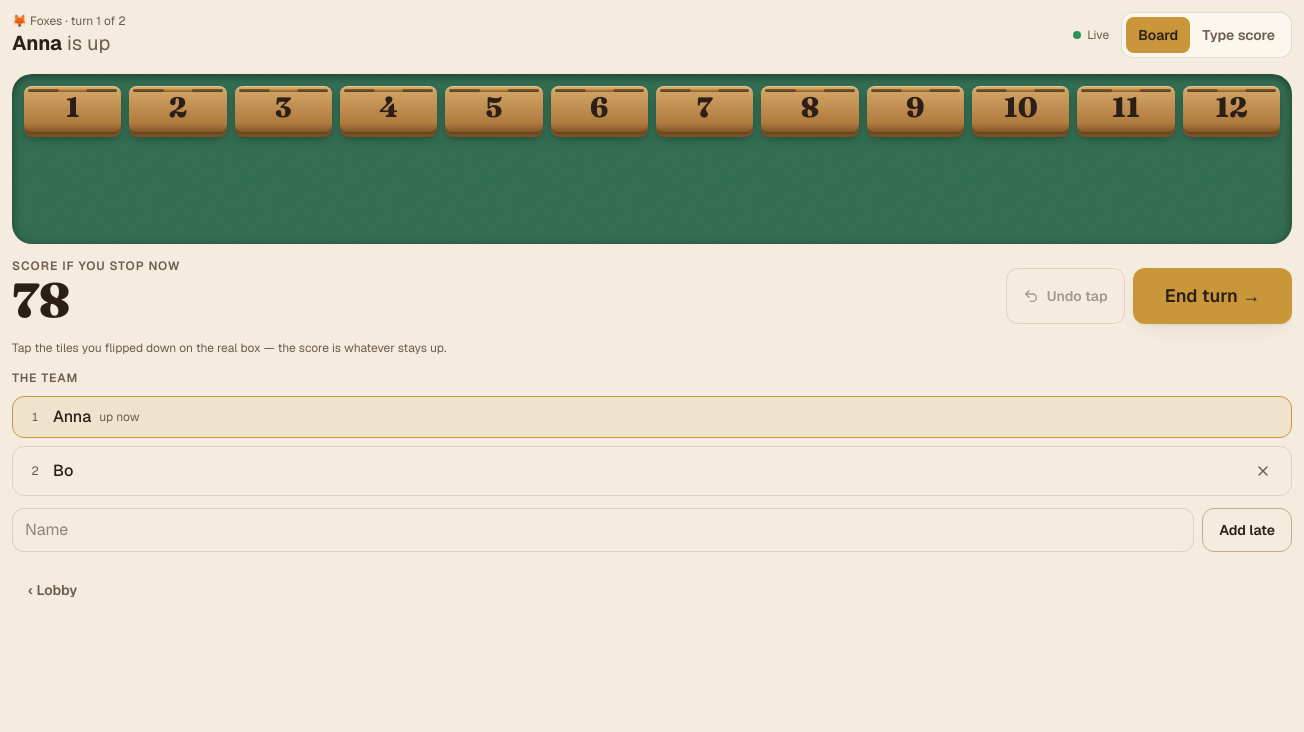
it: TeamBoard › says so when a tap cannot be saved, rather than lying about the board
Click the button named "Tile 1 up": coordinates (73, 159) [24, 86, 121, 232]
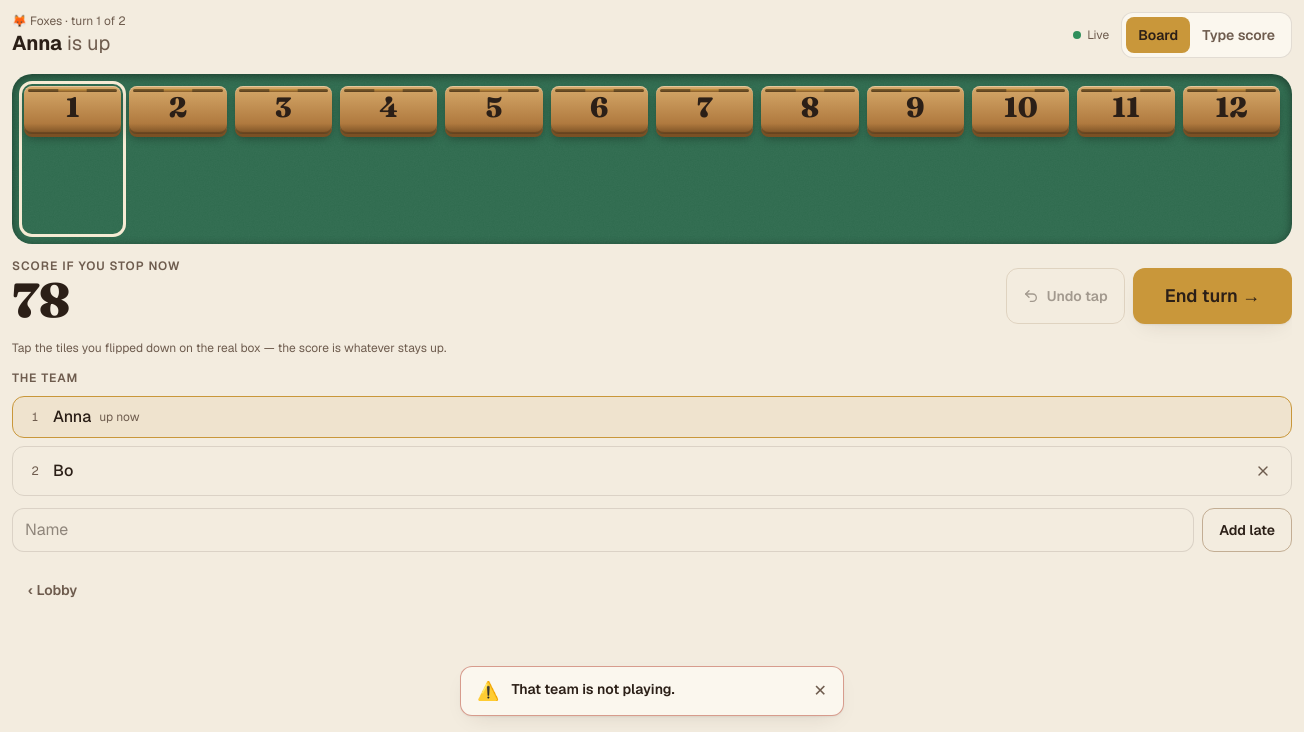
Now the text "That team is not playing." is shown, box [512, 680, 675, 698]
